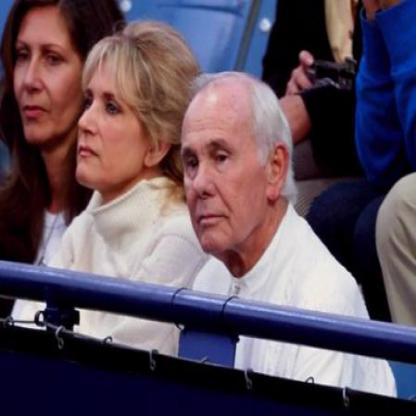face: (172, 82, 269, 257), (69, 32, 162, 198), (7, 1, 90, 149)
